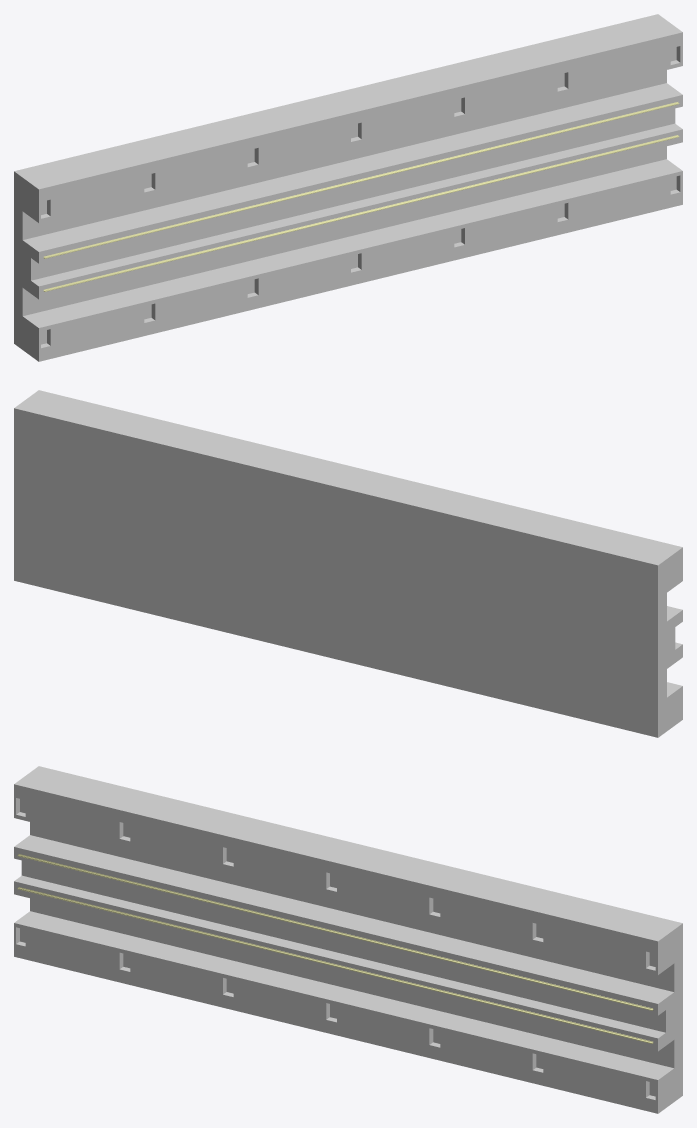
The model's file is CRRC_Spray_Plane.glb.
3 views of the same model, one above another, from view 1: azimuth 30°, elevation 25°; view 2: azimuth 150°, elevation 25°; view 3: azimuth 330°, elevation 25° (orthographic).
Visible parts, largest first — view 1: CRRC_Spray_Plane, _30__________¹_.003, _30__________¹_.001; view 2: CRRC_Spray_Plane; view 3: CRRC_Spray_Plane, _30__________¹_.003, _30__________¹_.001.
Boxes of the visible parts, box(x1,y1,x2,y2) form: CRRC_Spray_Plane: box(14, 14, 682, 361); _30__________¹_.003: box(43, 135, 679, 291); _30__________¹_.001: box(43, 102, 679, 258); CRRC_Spray_Plane: box(14, 390, 682, 737); CRRC_Spray_Plane: box(14, 766, 682, 1113); _30__________¹_.003: box(17, 887, 653, 1043); _30__________¹_.001: box(17, 854, 653, 1010).
Size of the model in its own units: 29.94 by 7.66 by 2.09.
